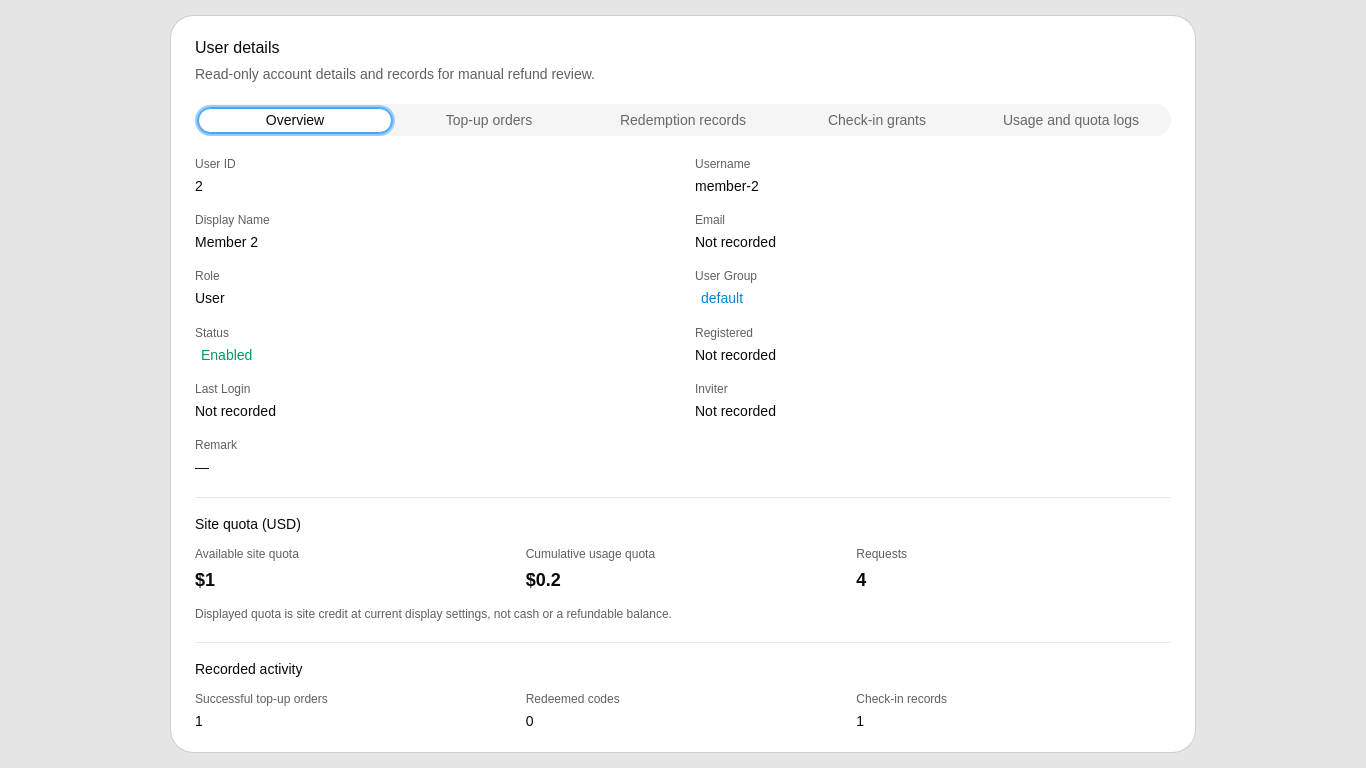
Test case: log pagination remains user scoped and changing the type resets to page one while quota returns are labeled separately from cash
Expected: the text "member-2" is shown, [695,178,759,194]
Click the tab "Usage and quota logs". click: click(1071, 120)
box: [974,108,1168,132]
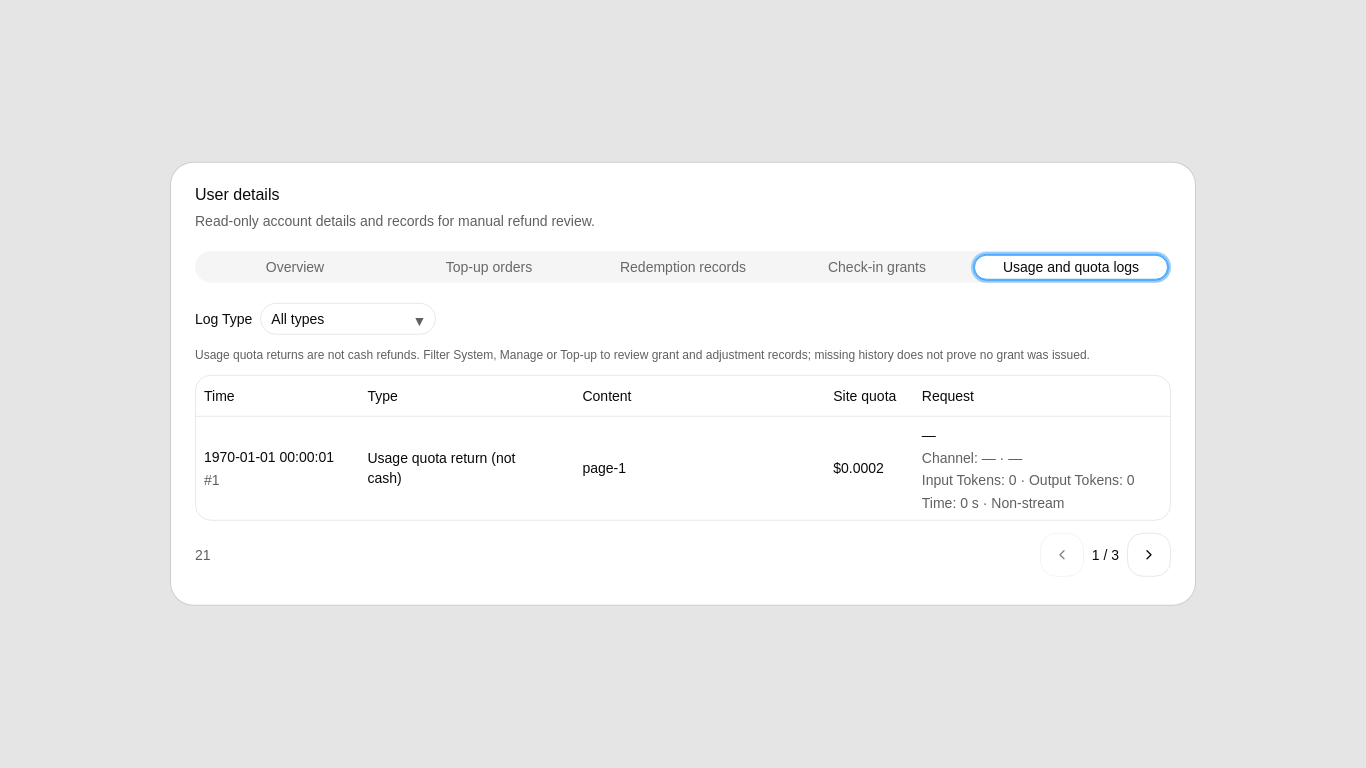
Expected: the text "page-1" is shown, [582,460,626,476]
Expected: the cell "Usage quota return (not cash)" is shown, [360,416,574,520]
Click the button named "Go to next page". click: click(1149, 555)
box: [1127,533,1171,577]
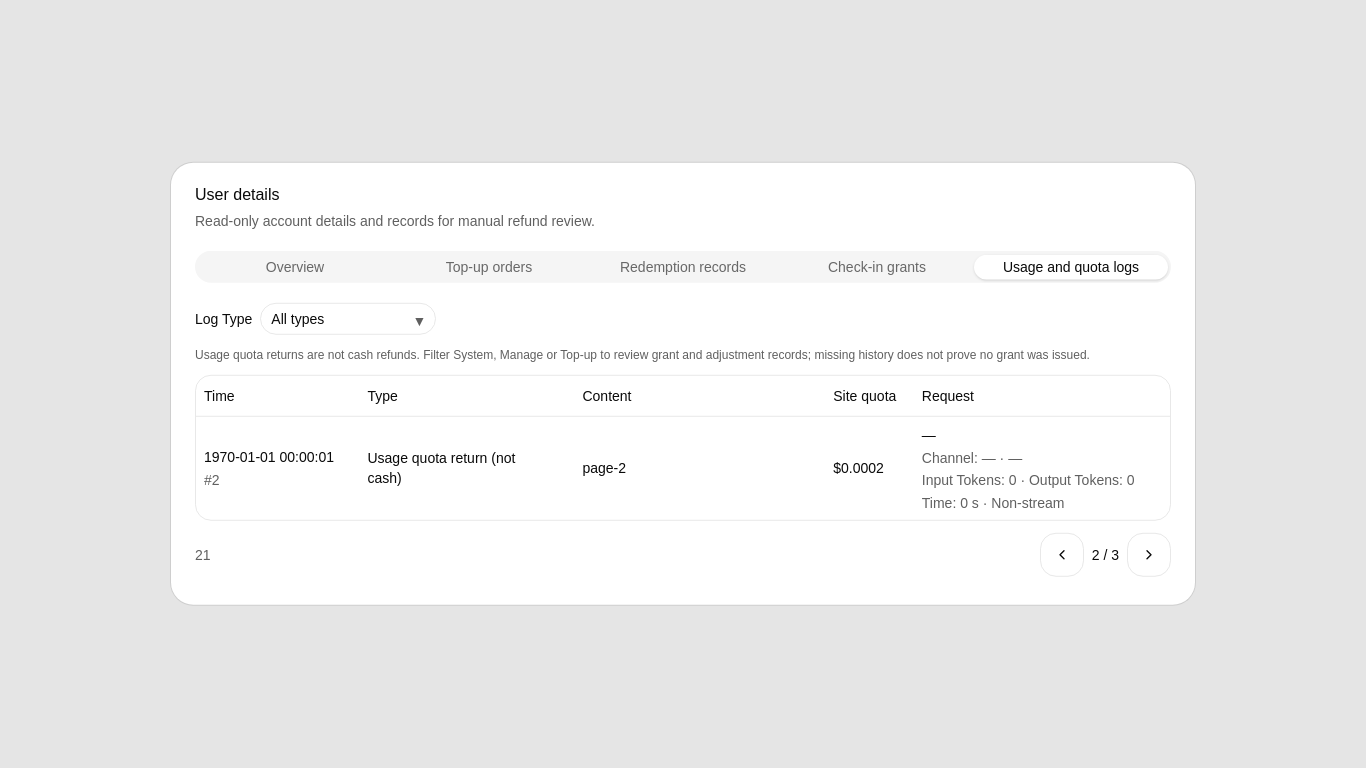
Expected: the text "page-2" is shown, [582,460,626,476]
Click the dropdown named "Log Type". click: click(348, 319)
box: [260,303,436,335]
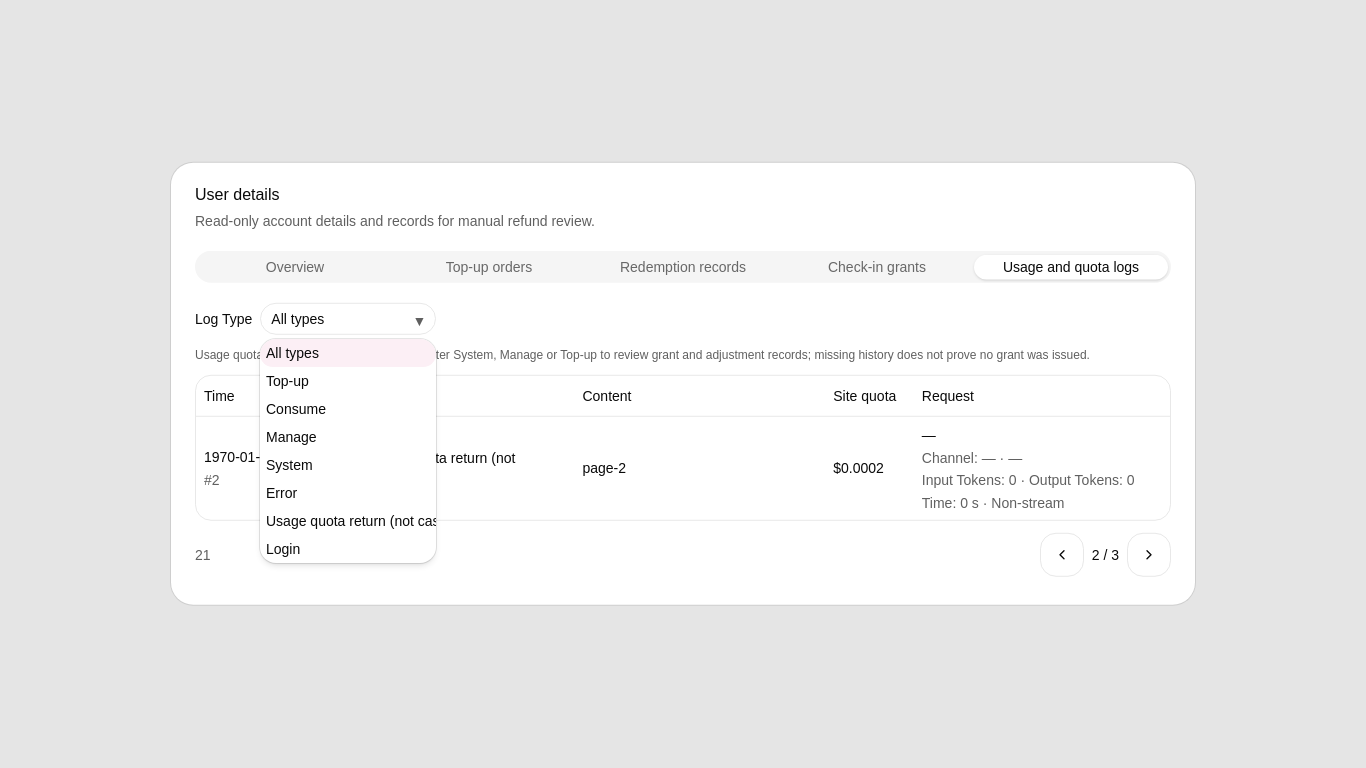
Click the option "Manage". click: click(291, 437)
box: [266,429,317,445]
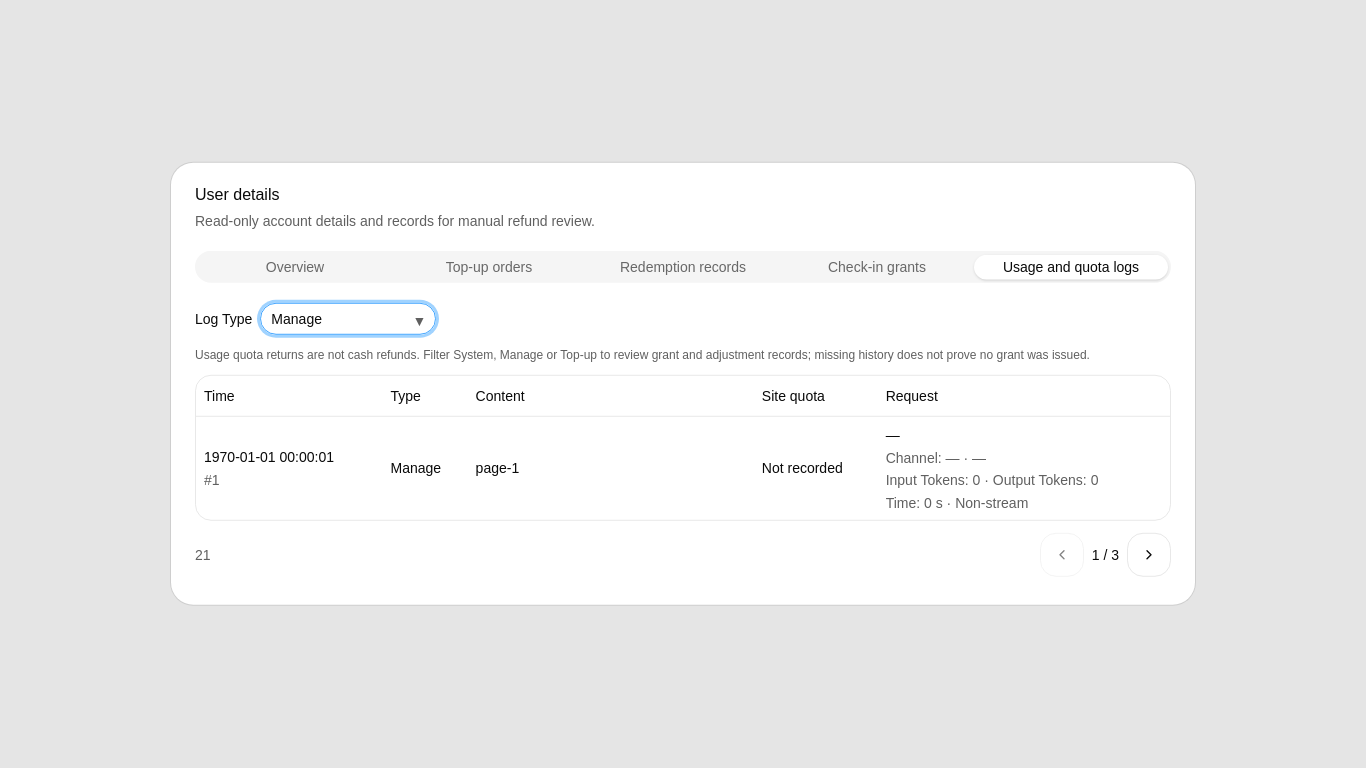
Expected: the text "page-1" is shown, [476,460,519,476]
Expected: the cell "Manage" is shown, [382,416,468,520]
